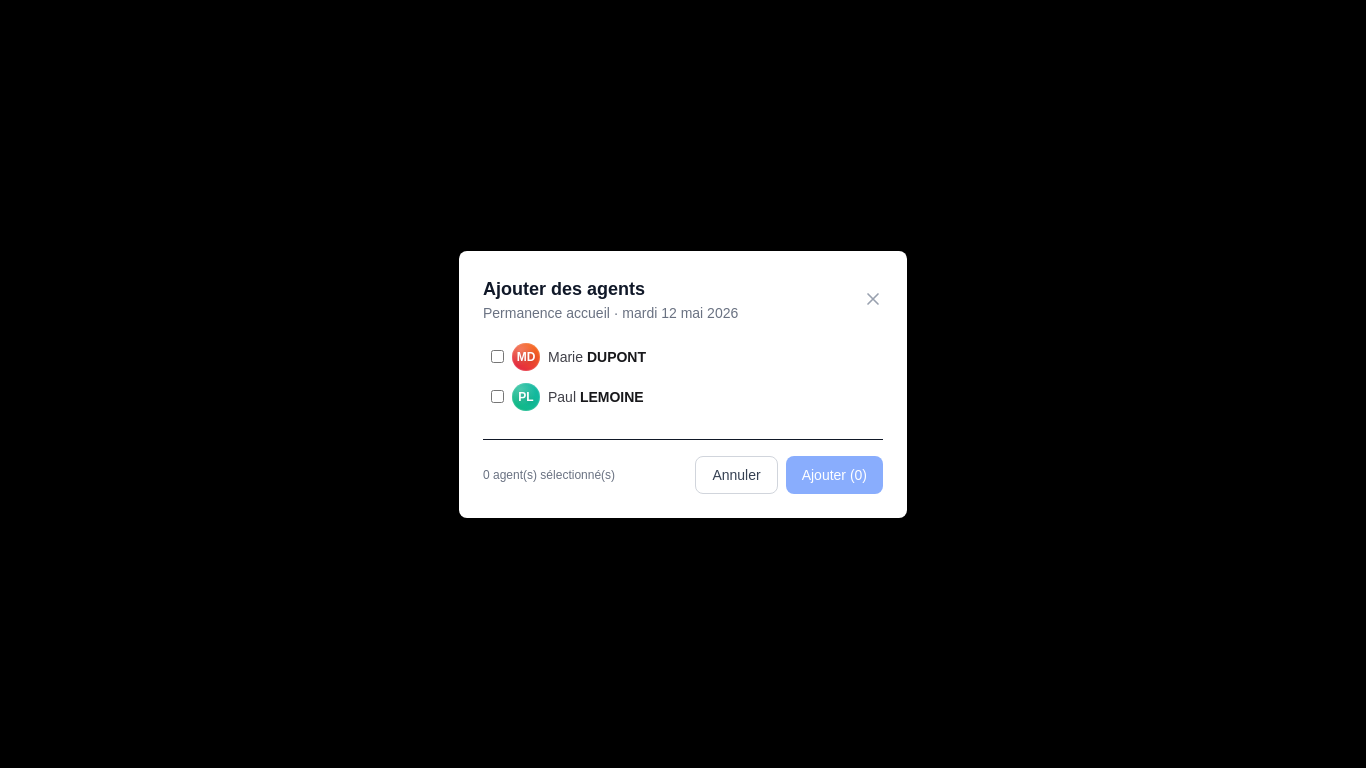
AddUsersToTaskModal › bouton Ajouter reflète la taille de sélection et est désactivé si N=0
This screenshot has width=1366, height=768.
Check: the button "Ajouter (0)" is disabled, box [786,456,883,494]
Click the checkbox next to "MD".
click(498, 356)  # box [491,350,504,363]
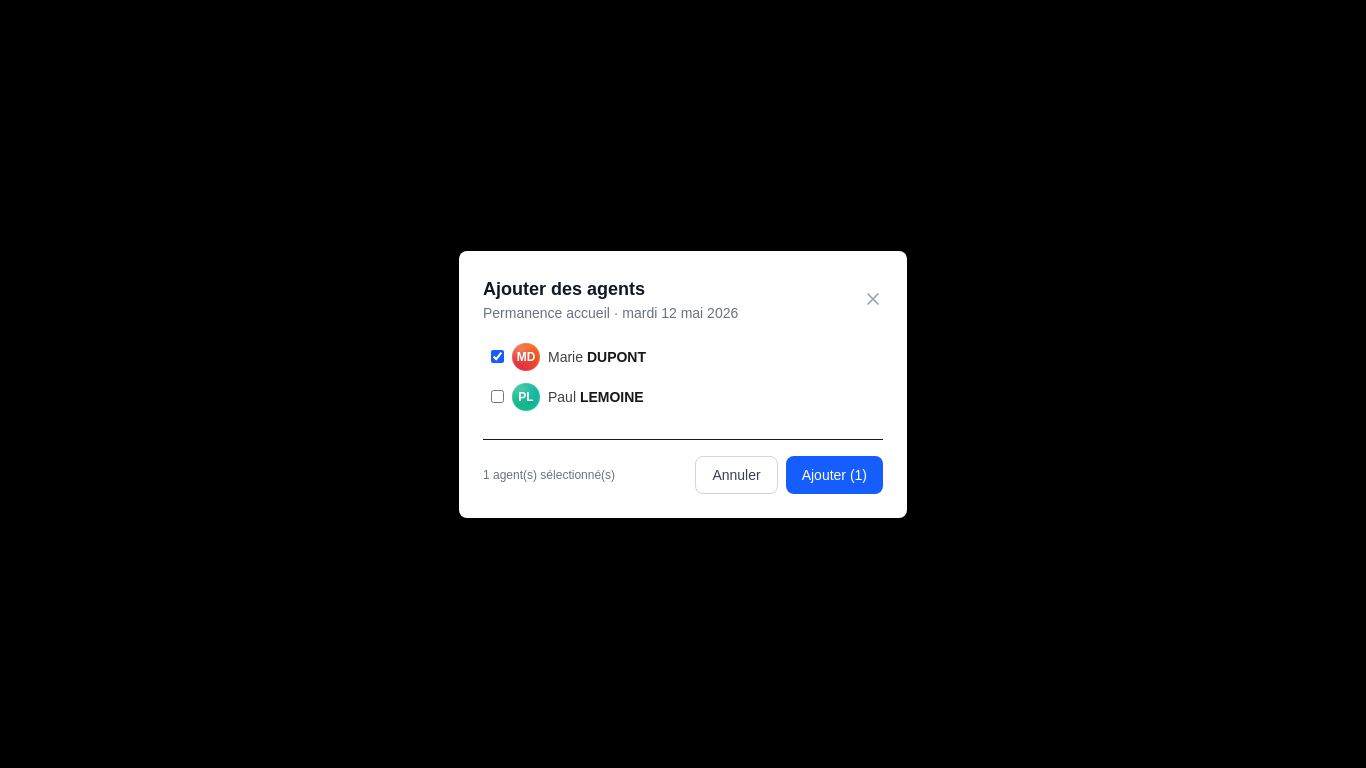
Check: the button "Ajouter (1)" is enabled, box [786,456,883,494]
